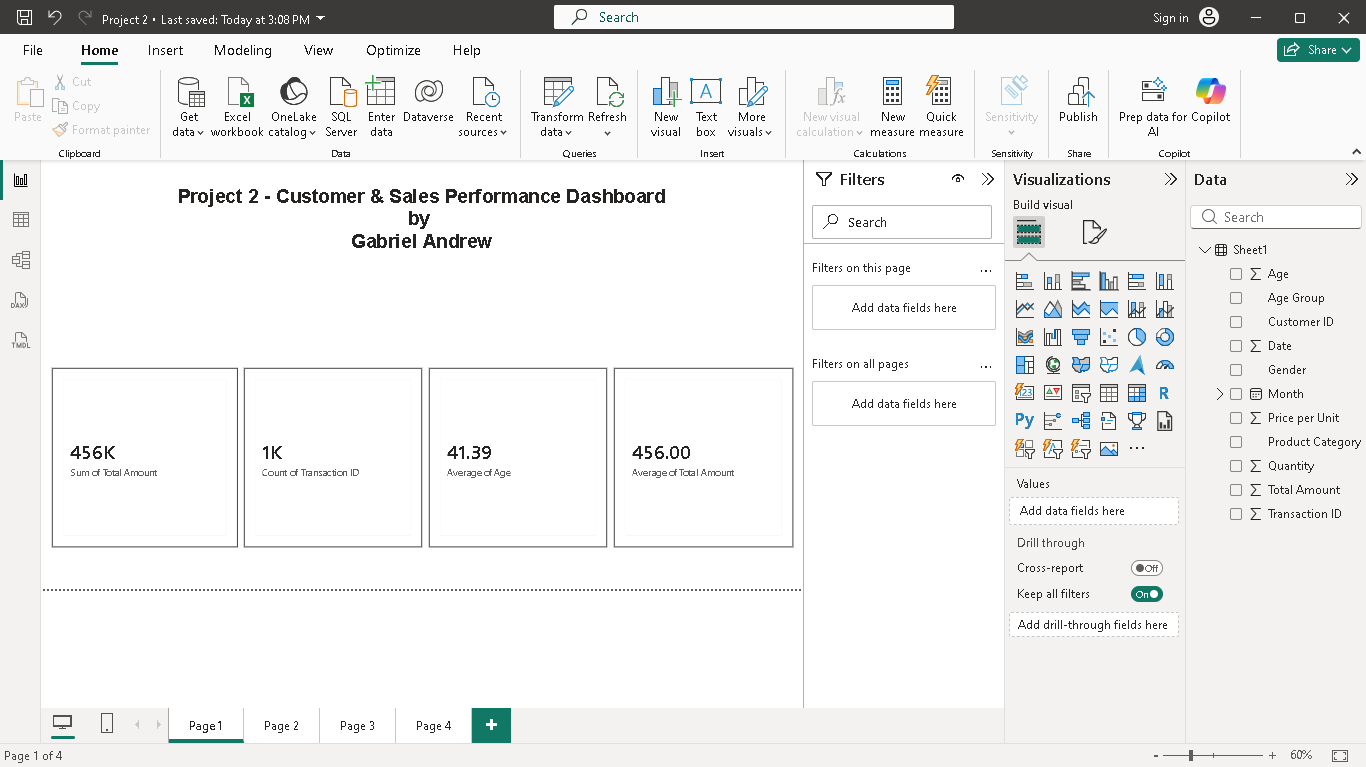

The dashboard page shown, as its layout file describes it:
{"tool":"powerbi","page":{"name":"Page 1","canvas":[1280,720],"ordinal":0},"visuals":[{"type":"cardVisual","fields":{"Data":["Sum(Sheet1.Total Amount)"]},"box":[18.5,349.4,312.4,300.7],"z":0},{"type":"cardVisual","fields":{"Data":["Avg(Sheet1.Total Amount)"]},"box":[962.5,349.4,300.7,300.7],"z":1000},{"type":"cardVisual","fields":{"Data":["CountNonNull(Sheet1.Transaction ID)"]},"box":[341,349.4,299,300.7],"z":2000},{"type":"cardVisual","fields":{"Data":["Avg(Sheet1.Age)"]},"box":[651.8,349.4,299,300.7],"z":3000},{"type":"textbox","box":[223.4,37,831.5,300.7],"z":3001}]}

Visuals, with their boxes on the page's 1280x720 design canvas (x1, y1, x2, y2). These are canvas units, not pixel positions in the 1366x767 screenshot, which may show the page scaled, cropped or inside an application window:
cardVisual - Sum(Sheet1.Total Amount): 18 349 331 650
cardVisual - Avg(Sheet1.Total Amount): 962 349 1263 650
cardVisual - CountNonNull(Sheet1.Transaction ID): 341 349 640 650
cardVisual - Avg(Sheet1.Age): 652 349 951 650
textbox: 223 37 1055 338
